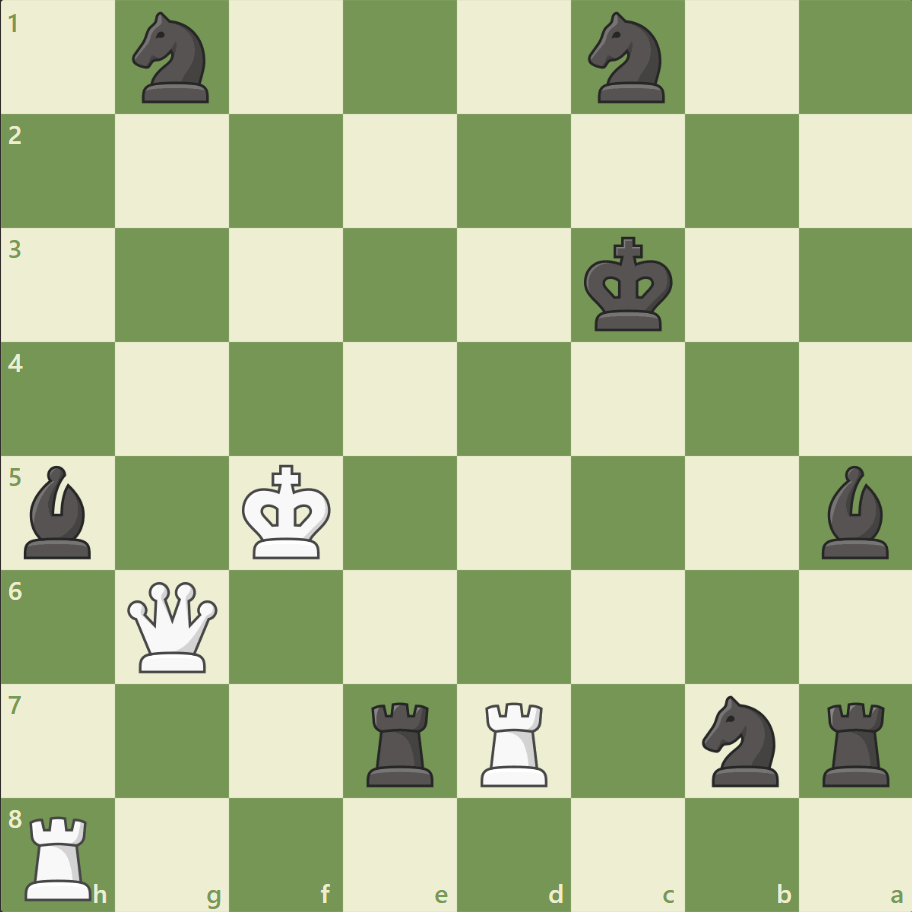K: (238, 458, 338, 566)
Q: (124, 576, 223, 676)
R: (19, 806, 102, 904), (473, 693, 556, 790)
b: (812, 460, 896, 563), (17, 460, 101, 563)
k: (579, 231, 679, 339)
n: (124, 7, 222, 110), (692, 688, 789, 791), (579, 7, 676, 110)
r: (814, 693, 897, 790), (360, 693, 442, 790)
